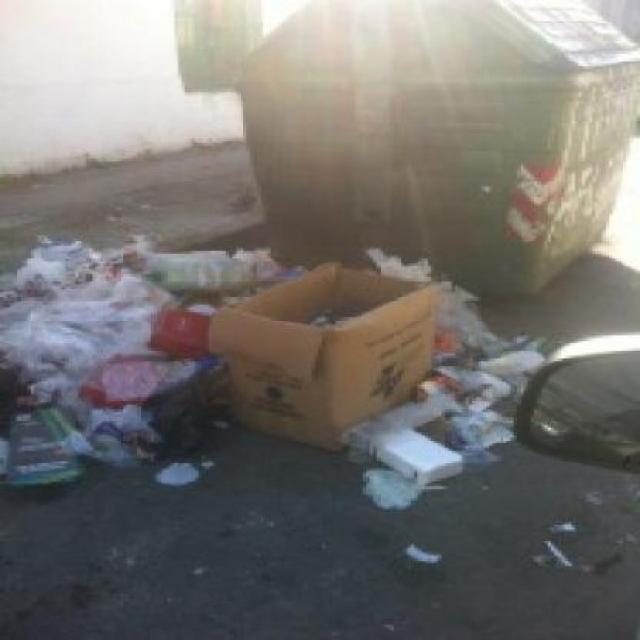garbage: (0, 231, 500, 497), (483, 323, 542, 384)
